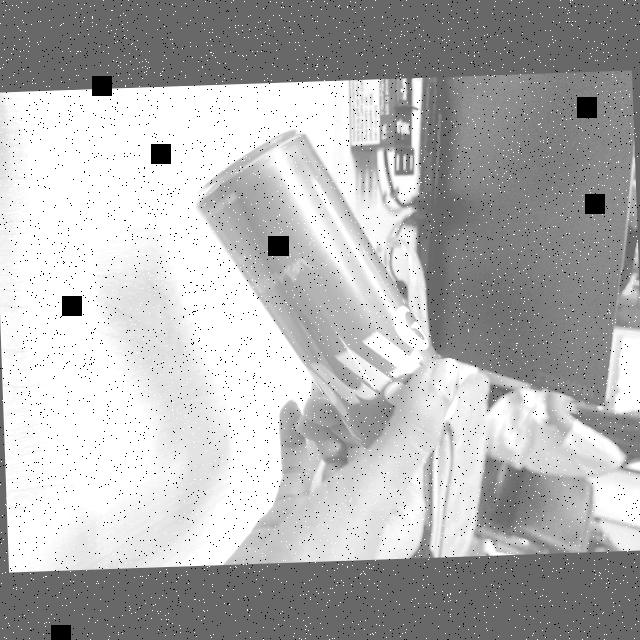can: (183, 110, 474, 453)
